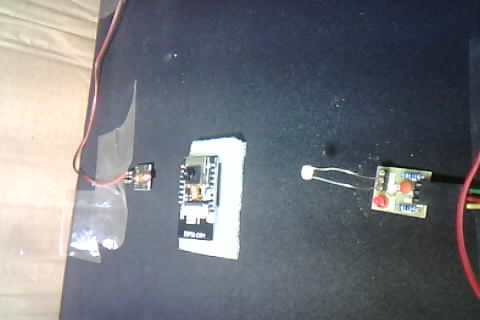esp32: (171, 151, 238, 258)
